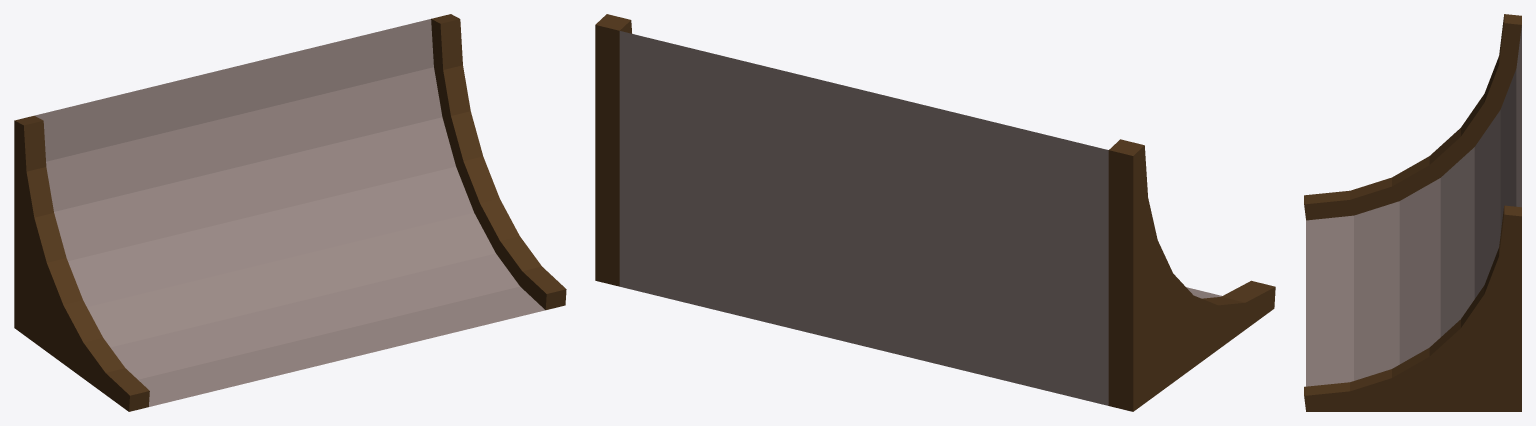
The model's file is rampcol.fbx.
3 renders of one model, left to right at view 1: azimuth 30°, elevation 25°; view 2: azimuth 150°, elevation 25°; view 3: azimuth 270°, elevation 25°, orthographic. The views are drawn at different scales.
Parts seen in each view (by area): view 1: Plane.001, Plane.009, Plane.011, Plane.012, Plane.010, Plane.008, Plane.013, Plane.014; view 2: Plane.010, Plane.001; view 3: Plane.001, Plane.014, Plane.013, Plane.008, Plane.012, Plane.009, Plane.011, Plane.010.
Boxes of the visible parts, x1,y1,x2,y2 form: Plane.001: [14, 14, 566, 411]; Plane.009: [54, 117, 455, 261]; Plane.011: [46, 67, 442, 211]; Plane.012: [68, 166, 473, 306]; Plane.010: [35, 19, 433, 161]; Plane.008: [87, 213, 495, 347]; Plane.013: [110, 253, 519, 379]; Plane.014: [138, 286, 544, 406]; Plane.010: [619, 31, 1108, 405]; Plane.001: [595, 14, 1275, 411]; Plane.001: [1304, 14, 1521, 411]; Plane.014: [1306, 215, 1353, 386]; Plane.013: [1354, 201, 1399, 380]; Plane.008: [1399, 178, 1440, 364]; Plane.012: [1440, 147, 1474, 336]; Plane.009: [1474, 110, 1500, 298]; Plane.011: [1500, 69, 1516, 232]; Plane.010: [1516, 25, 1521, 207].
Bounding box in the file's own units: 220 × 101 × 101.
